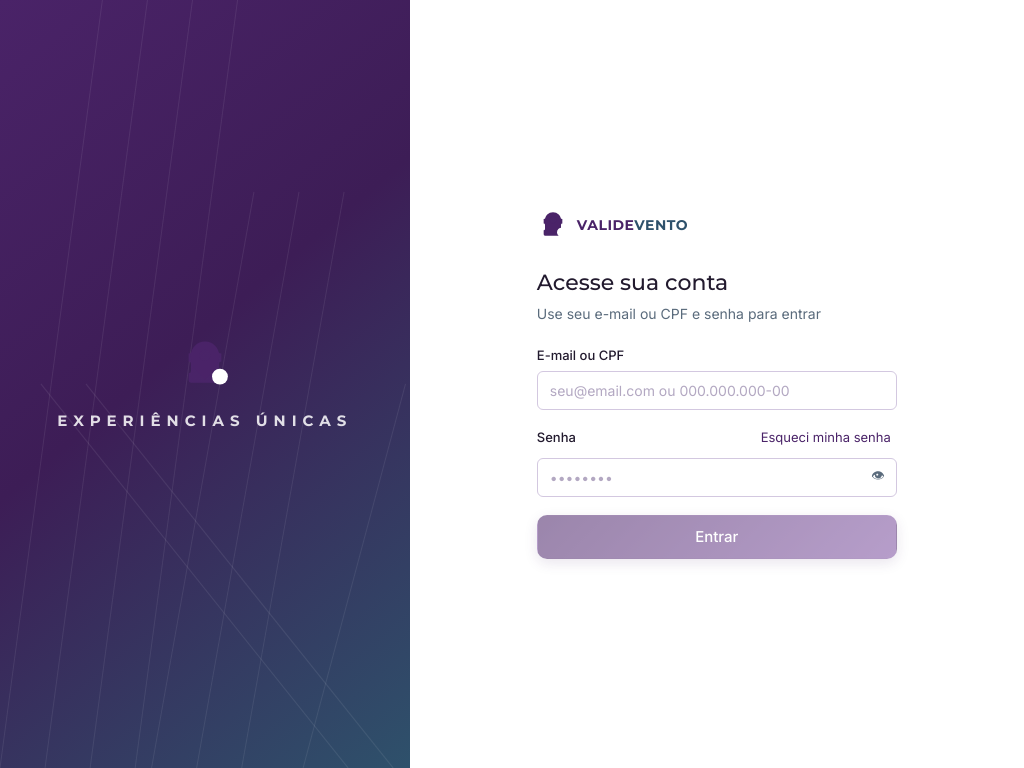
Scenario: Login › T-login-3: erro tenant_suspended exibe mensagem correta
This screenshot has width=1024, height=768.
Type "11122233344" into the field labelled "E-mail ou CPF" at (717, 391), box [537, 371, 897, 410]
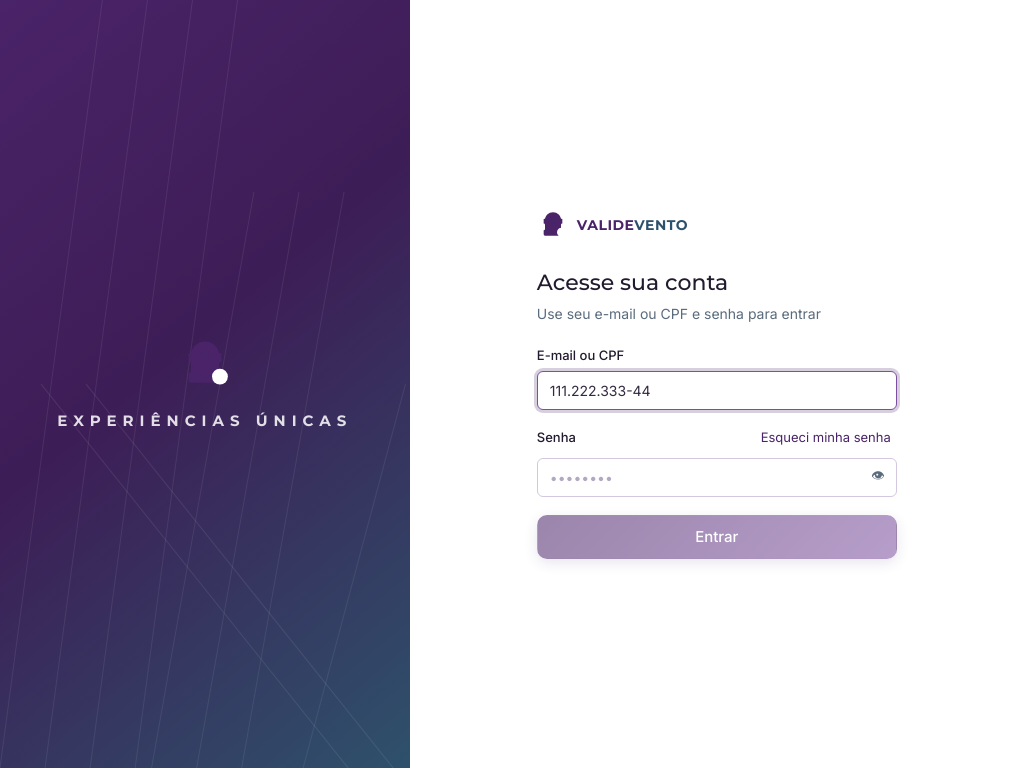
Type "segredo123" into the password field labelled "Senha" at (717, 477), box [537, 458, 897, 497]
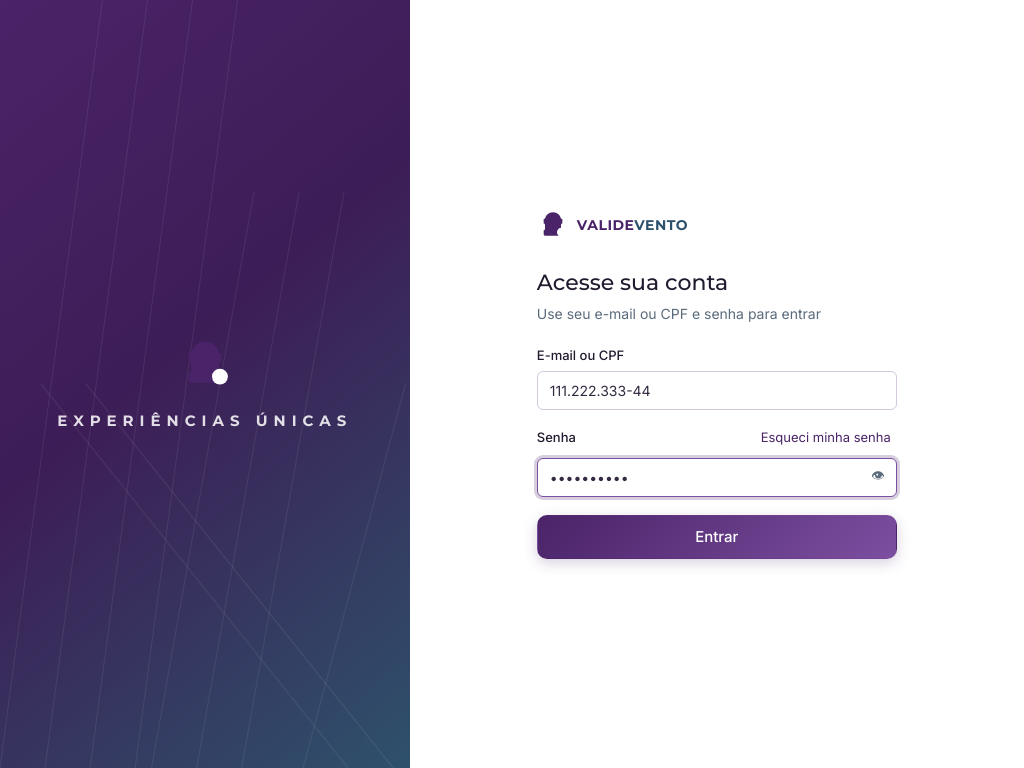
Click the button "Entrar" at (717, 537), box [537, 515, 897, 559]
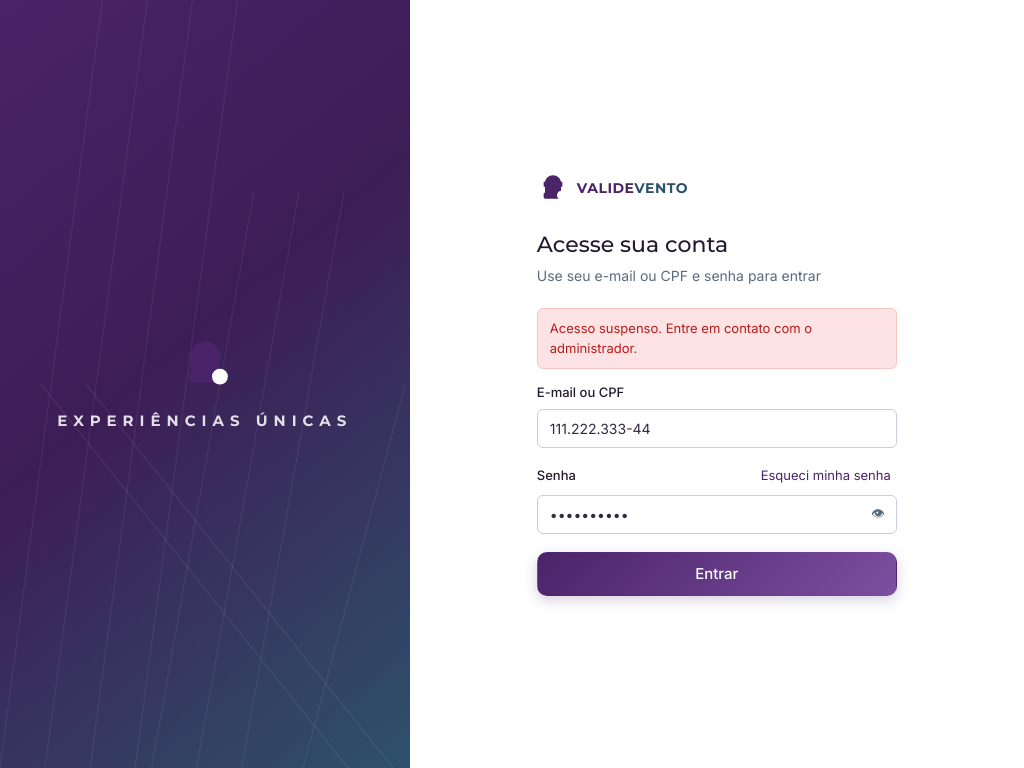
Result: the text "Acesso suspenso. Entre em contato com o administrador." is shown at [537, 308, 897, 369]
